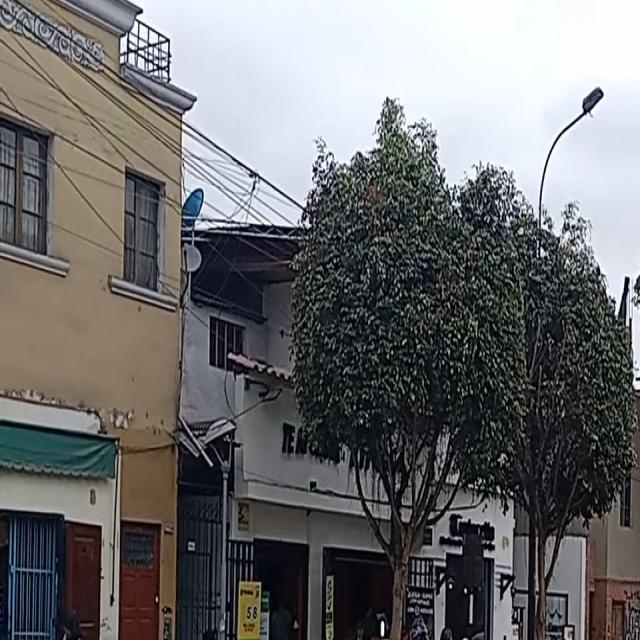bicycle: (478, 524, 497, 564)
bus: (638, 506, 640, 640)
car: (336, 630, 576, 640)
